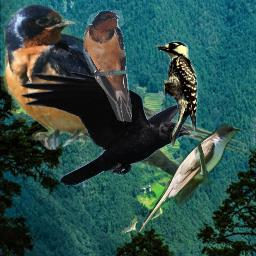Crow: (19, 70, 194, 186)
Cuckoo: (137, 124, 241, 234)
Swallow: (1, 0, 247, 187), (83, 10, 132, 122)
Woodpecker: (155, 41, 200, 147)
